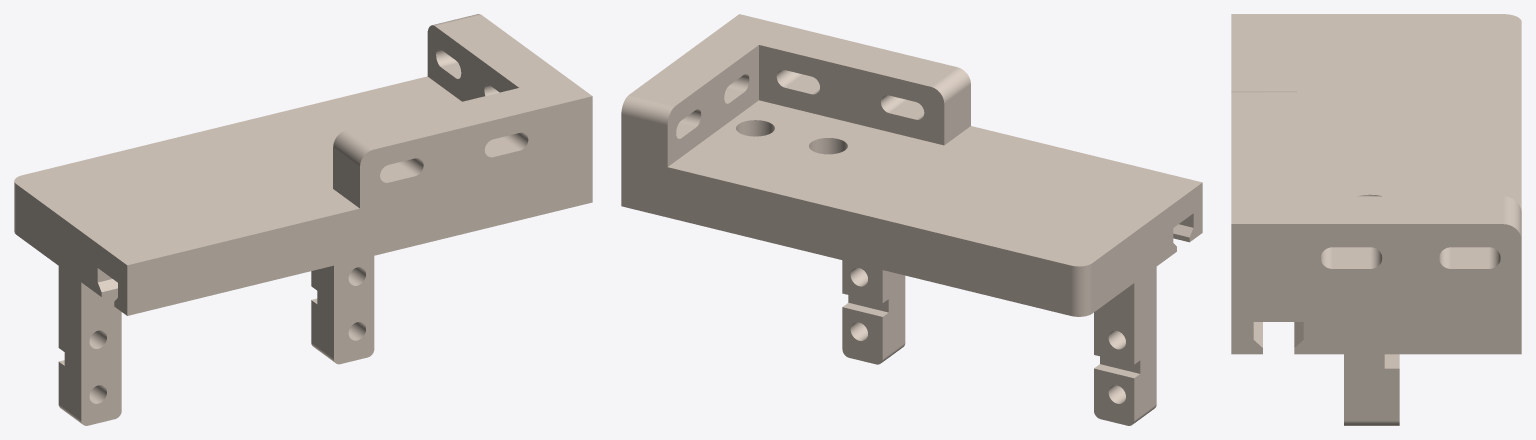
Rendered from motor_bracket_top.glb.
3 views of the same model, side by side, from view 1: azimuth 30°, elevation 25°; view 2: azimuth 150°, elevation 25°; view 3: azimuth 270°, elevation 25° (orthographic). The views are drawn at different scales.
Visible parts, largest first — view 1: motor bracket top; view 2: motor bracket top; view 3: motor bracket top.
Boxes of the visible parts, x1=… form: motor bracket top: x1=14, y1=14, x2=592, y2=425; motor bracket top: x1=621, y1=14, x2=1202, y2=425; motor bracket top: x1=1231, y1=14, x2=1521, y2=425.
Size of the model in its own units: 0.0889 by 0.0459 by 0.0393.
